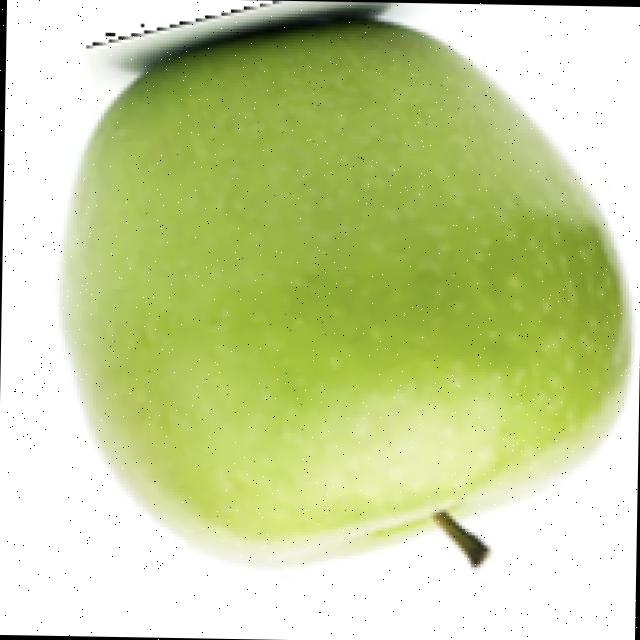apple: (55, 2, 637, 572)
